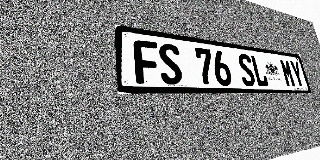6: (211, 50, 233, 86)
7: (193, 47, 217, 85)
F: (133, 39, 161, 84)
L: (250, 55, 269, 87)
M: (279, 59, 296, 87)
S: (157, 42, 183, 85), (236, 53, 257, 86)
Y: (289, 60, 305, 87)
